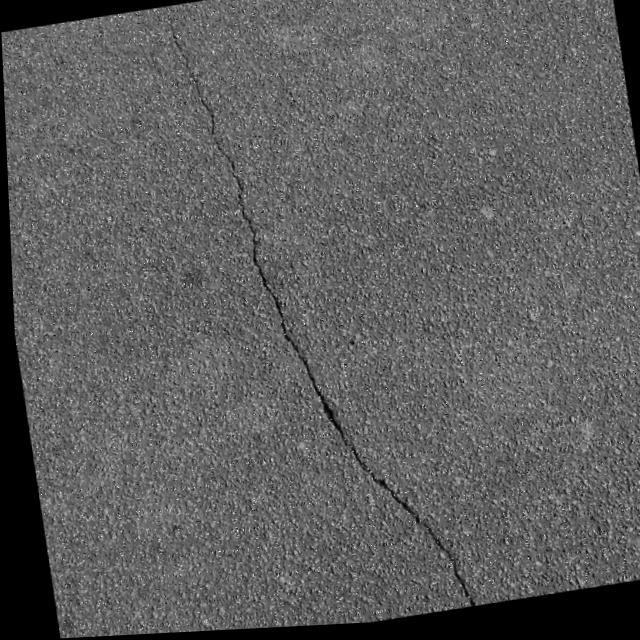Crack: (146, 0, 486, 634)
